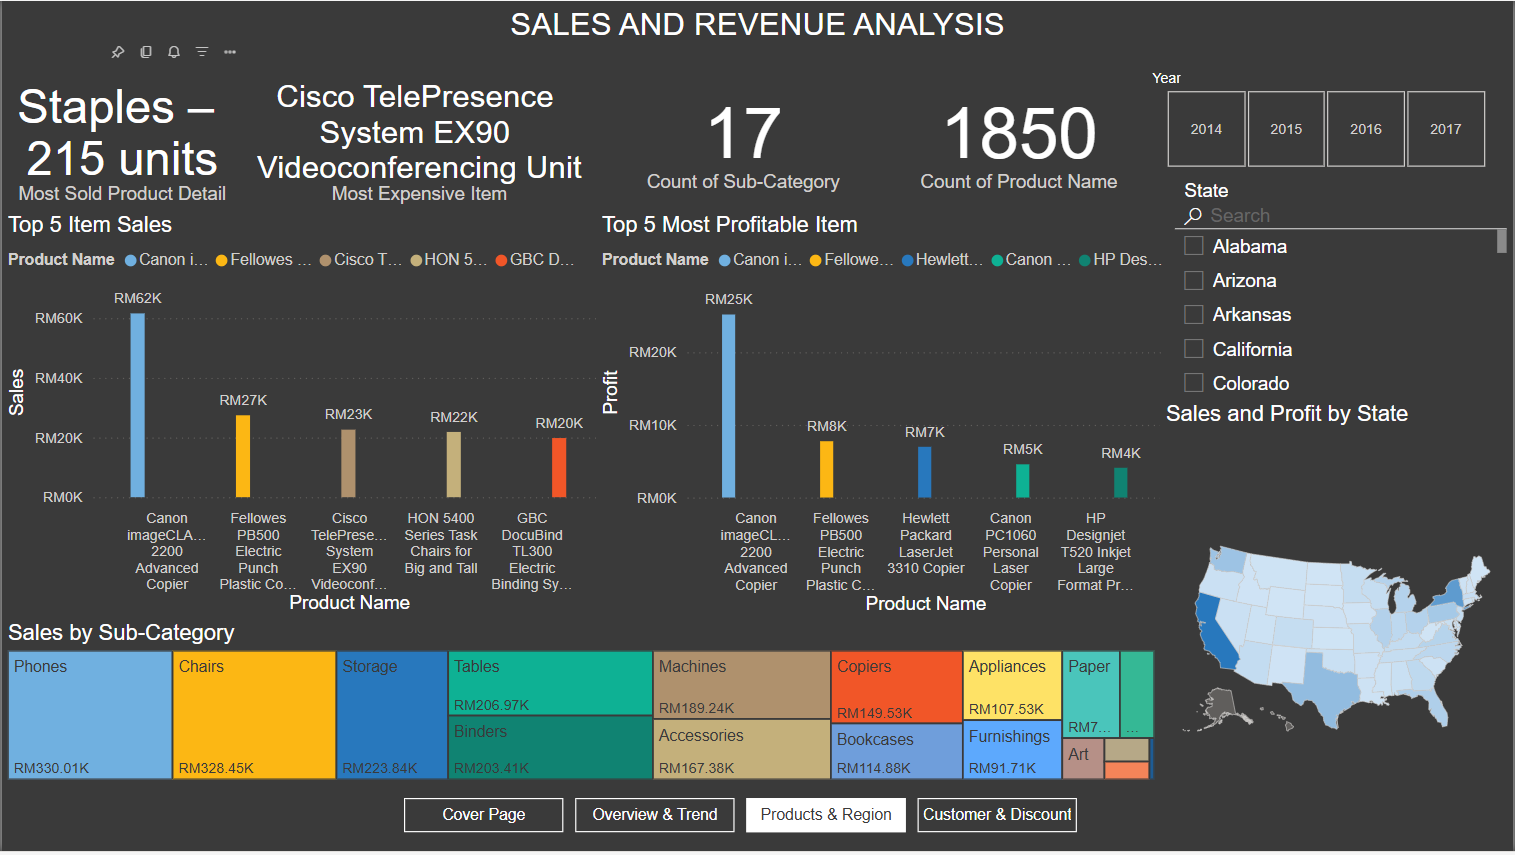

This screenshot's page, from the dashboard's own definition file:
{"tool":"powerbi","page":{"name":"Products & Region","canvas":[1280,720],"ordinal":2},"visuals":[{"type":"textbox","box":[0,0,1280,48.8],"z":0},{"type":"card","fields":{"Values":["Sample - Superstore.Most Expensive Item"]},"box":[203.8,53.8,298.8,125],"z":1000},{"type":"card","fields":{"Values":["Count(Sample - Superstore.Sub-Category)"]},"box":[502.5,53.8,251.2,125],"z":2000},{"type":"card","fields":{"Values":["Sample - Superstore.Most Sold Product Detail"]},"box":[0,53.8,203.8,125],"z":3000},{"type":"card","fields":{"Values":["Count(Sample - Superstore.Product Name)"]},"box":[753.8,53.8,215,125],"z":4000},{"type":"clusteredColumnChart","title":"Top 5 Item Sales","fields":{"Y":["Sum(Sample - Superstore.Sales)"],"Series":["Sample - Superstore.Product Name"],"Category":["Sample - Superstore.Product Name"]},"box":[0,178.8,516.2,345],"z":5000},{"type":"clusteredColumnChart","title":"Top 5 Most Profitable Item","fields":{"Series":["Sample - Superstore.Product Name"],"Category":["Sample - Superstore.Product Name"],"Y":["Sum(Sample - Superstore.Profit)"]},"box":[502.8,178.6,485.9,345.2],"z":6000},{"type":"treemap","title":"Sales by Sub-Category","fields":{"Values":["Sum(Sample - Superstore.Sales)"],"Group":["Sample - Superstore.Sub-Category"]},"box":[0,524.1,980.7,140.1],"z":7000},{"type":"shapeMap","title":"Sales and Profit by State","fields":{"Category":["Sample - Superstore.State"],"Value":["Sum(Sample - Superstore.Sales)"]},"box":[980.7,338.6,299.3,382],"z":8000},{"type":"slicer","fields":{"Values":["Sample - Superstore.State"]},"box":[988.7,147.1,291.3,191.5],"z":9000},{"type":"pageNavigator","box":[340.2,675.4,573.7,29.9],"z":10000},{"type":"slicer","fields":{"Values":["Sample - Superstore.Order Date.Variation.Date Hierarchy.Year"]},"box":[961.5,53.4,318.5,93.7],"z":11000}]}

Visuals, with their boxes on the page's 1280x720 design canvas (x1, y1, x2, y2). These are canvas units, not pixel positions in the 1515x855 screenshot, which may show the page scaled, cropped or inside an application window:
textbox: 0:0:1280:49
card - Sample - Superstore.Most Expensive Item: 204:54:503:179
card - Count(Sample - Superstore.Sub-Category): 502:54:754:179
card - Sample - Superstore.Most Sold Product Detail: 0:54:204:179
card - Count(Sample - Superstore.Product Name): 754:54:969:179
"Top 5 Item Sales" clusteredColumnChart: 0:179:516:524
"Top 5 Most Profitable Item" clusteredColumnChart: 503:179:989:524
"Sales by Sub-Category" treemap: 0:524:981:664
"Sales and Profit by State" shapeMap: 981:339:1280:721
slicer - Sample - Superstore.State: 989:147:1280:339
pageNavigator: 340:675:914:705
slicer - Sample - Superstore.Order Date.Variation.Date Hierarchy.Year: 962:53:1280:147
